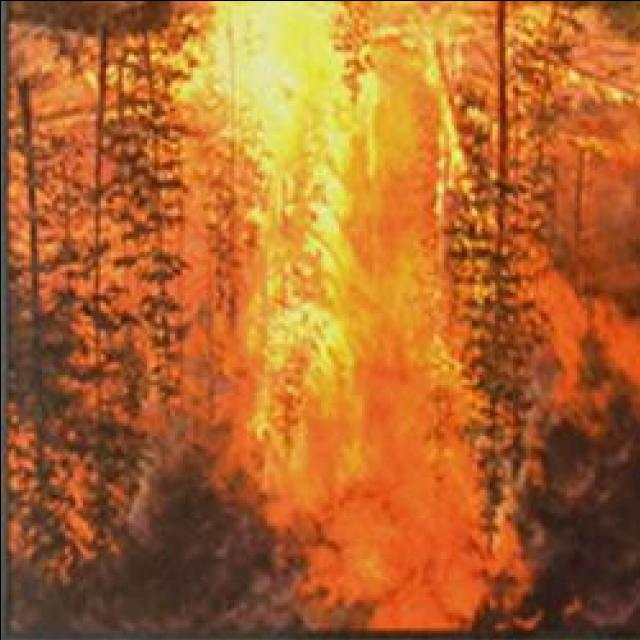fire: (254, 136, 358, 432), (201, 0, 373, 154)
smoke: (304, 454, 532, 616), (513, 380, 640, 619)
